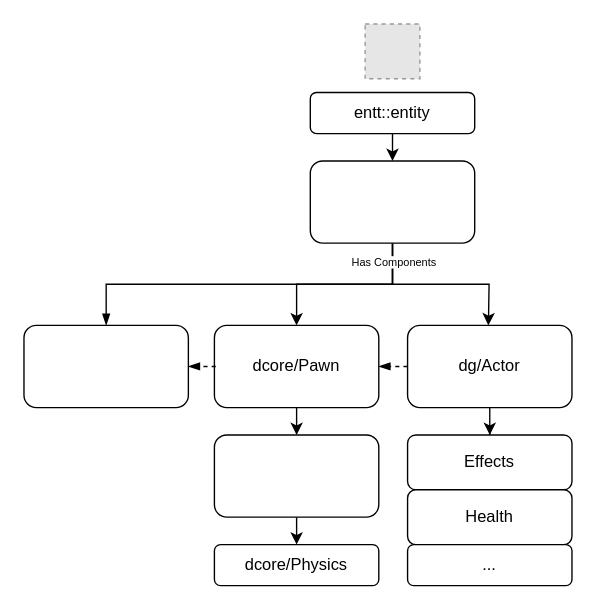
This 596x610 diagram has some shape labels left out. Grey dashed boxes stand in for pictures. The shapes that lost their labels are listed below. From the top down, each one's centre as x and y in pixels, then its label:
At pixel 392 201: "dcore/Entity".
At pixel 105 366: "dcore/Transform".
At pixel 296 475: "dcore/PawnPhysics".
